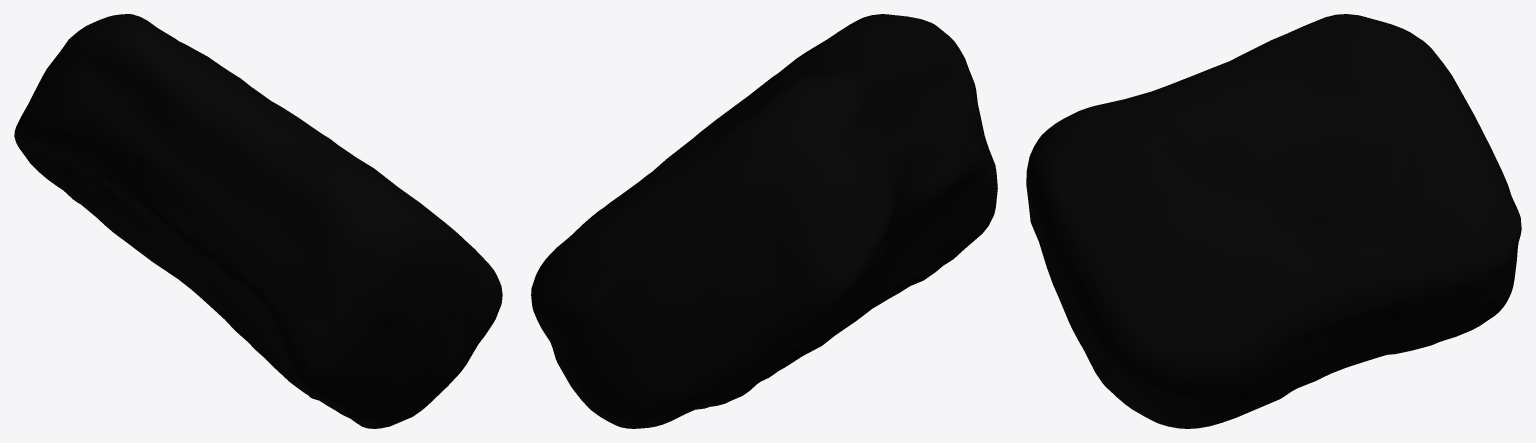
File: LunchBox.fbx
The picture shows the model from 3 angles, left to right: view 1: azimuth 30°, elevation 25°; view 2: azimuth 150°, elevation 25°; view 3: azimuth 270°, elevation 25°; orthographic projection. The views are drawn at different scales.
Parts seen in each view (by area): view 1: LunchBox; view 2: LunchBox; view 3: LunchBox.
Boxes of the visible parts, x1=… form: LunchBox: x1=14, y1=14, x2=502, y2=428; LunchBox: x1=531, y1=14, x2=997, y2=428; LunchBox: x1=1026, y1=14, x2=1521, y2=428.
Bounding box in the file's own units: 59.23 × 60.58 × 81.45.
1 material, 1 textured.
